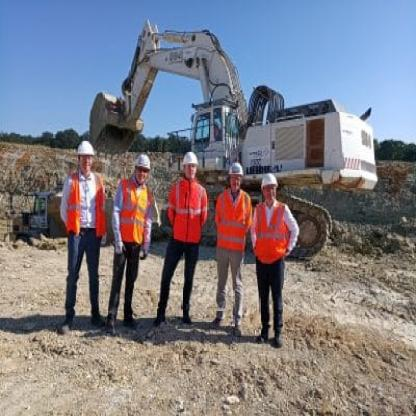excavator: (83, 8, 378, 276)
person: (56, 123, 104, 334), (157, 136, 203, 338), (110, 137, 150, 340), (246, 158, 289, 342), (209, 144, 244, 336)
